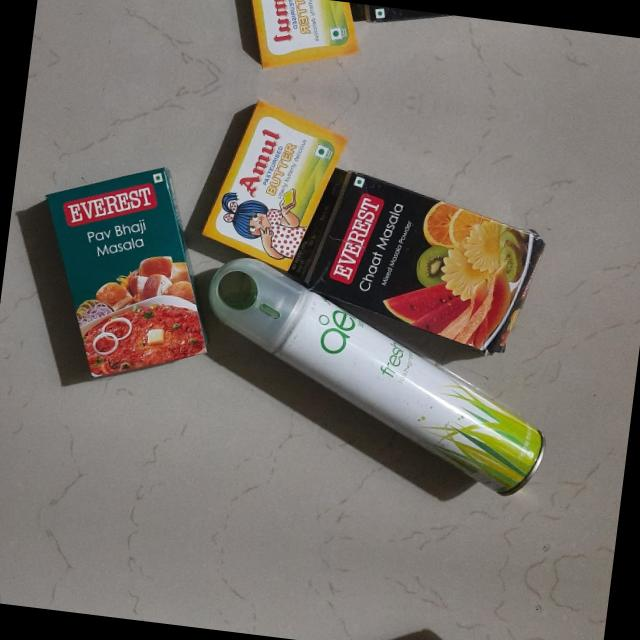Amul Butter: (184, 91, 348, 274), (206, 0, 360, 81)
Everest Chaat Masala 50 g: (302, 153, 552, 352)
Everest Pav Bhaji Masala 100 g: (20, 158, 214, 392)
Godrej Aer Lush Green Fresh Home Fragrance Spray 220 ml: (180, 268, 564, 504)
